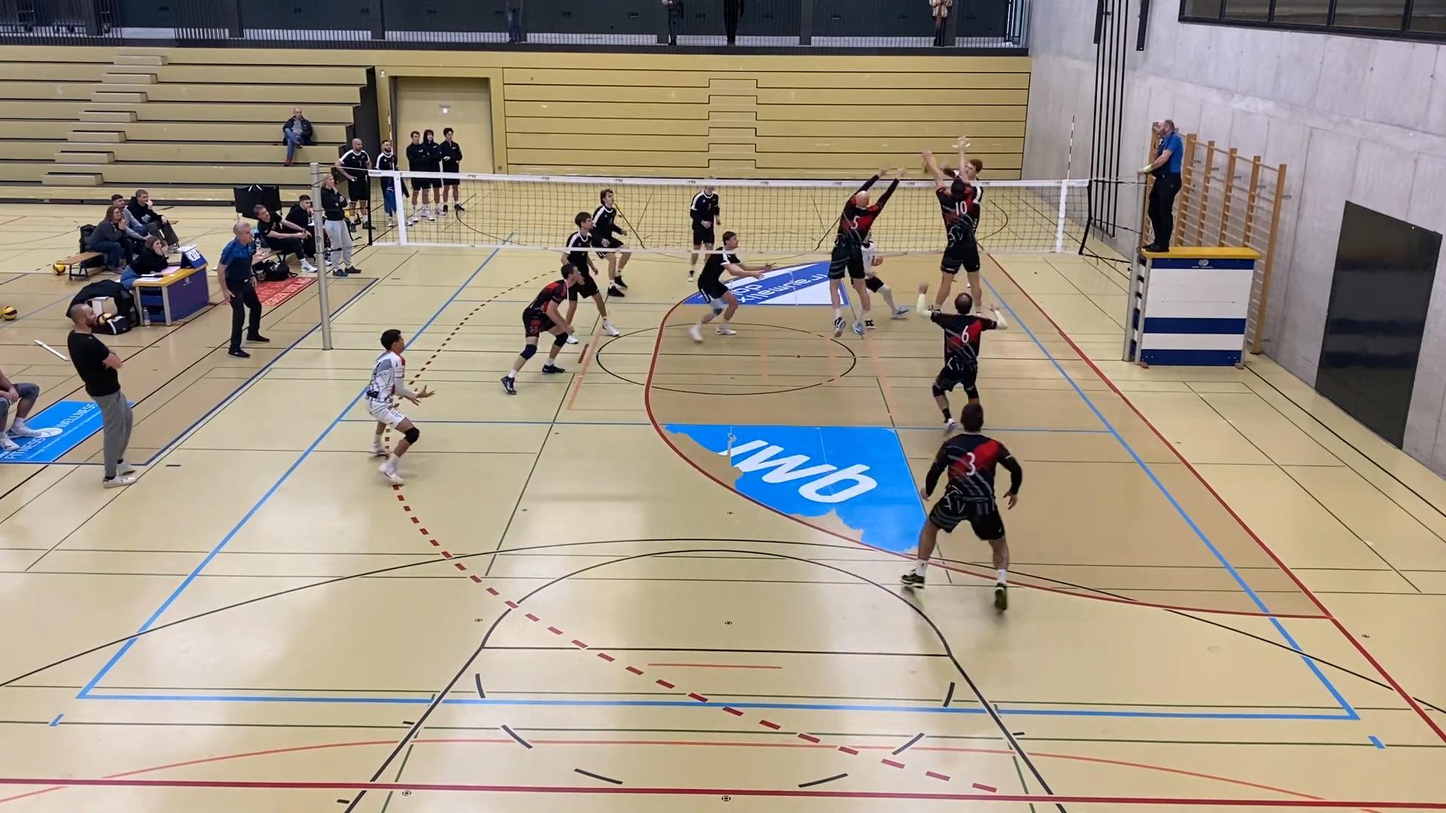Attack: (931, 139, 988, 241)
Block: (821, 160, 907, 344), (917, 141, 989, 315)
Player: (901, 403, 1022, 610), (501, 264, 583, 394), (930, 293, 1006, 431), (364, 329, 432, 483), (689, 231, 773, 341), (563, 212, 619, 336), (593, 189, 630, 297), (862, 241, 908, 318), (690, 185, 719, 279)
